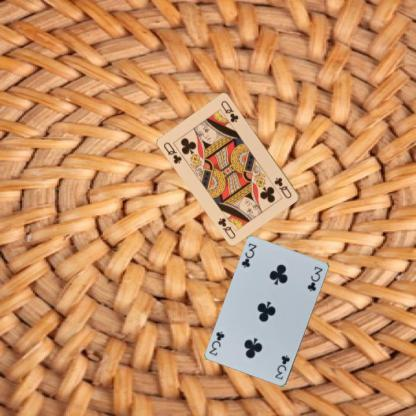3c: (239, 240, 258, 270), (273, 352, 291, 381)
Qc: (271, 174, 293, 200), (161, 139, 183, 165)
